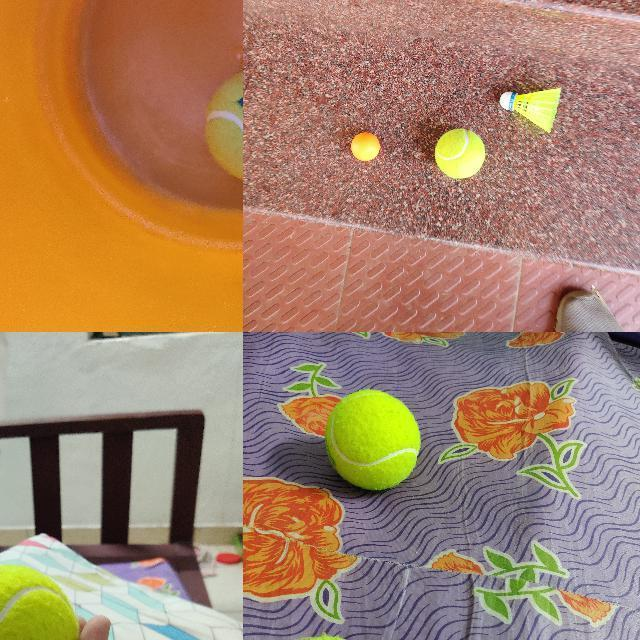tennis-ball: (324, 390, 422, 491), (0, 564, 78, 639), (205, 68, 242, 182), (435, 128, 486, 178)
